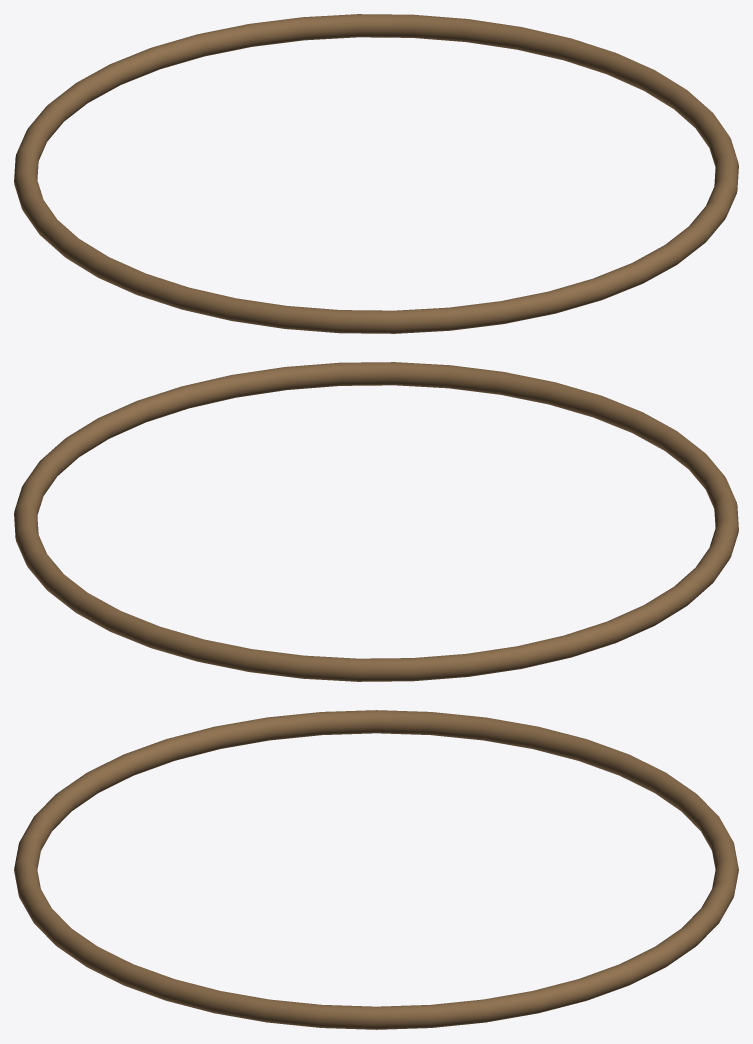
Rendered from Shockwave.obj.
The picture shows the model from 3 angles, top to bottom: view 1: azimuth 30°, elevation 25°; view 2: azimuth 150°, elevation 25°; view 3: azimuth 270°, elevation 25°; orthographic projection.
Visible parts, largest first — view 1: Shockwave; view 2: Shockwave; view 3: Shockwave.
Part boxes in pixels (x1,y1,x2,y2): Shockwave: (14,14,738,333); Shockwave: (14,362,738,681); Shockwave: (14,710,738,1029).
Bounding box in the file's own units: 6.2 × 0.2 × 6.2.
